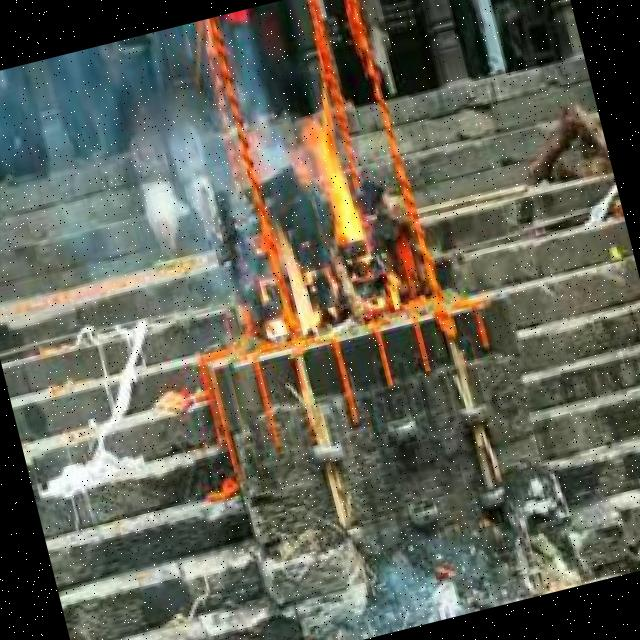fire: (294, 108, 368, 260)
